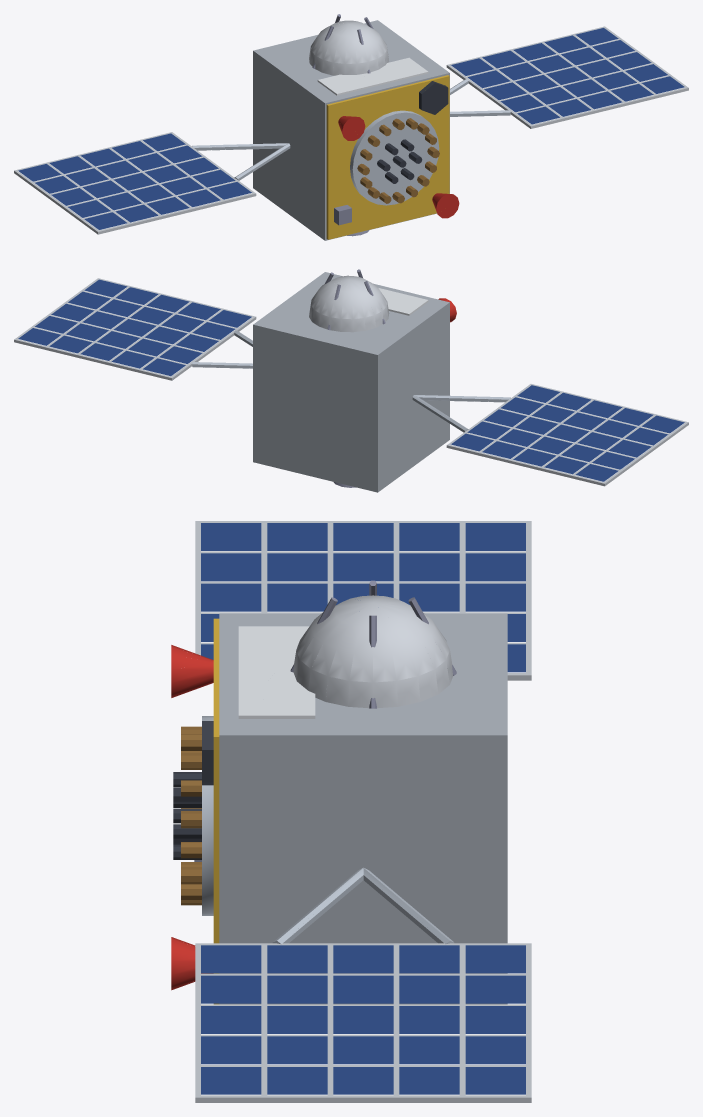
The model's file is irnss.glb.
The picture shows the model from 3 angles, top to bottom: view 1: azimuth 30°, elevation 25°; view 2: azimuth 150°, elevation 25°; view 3: azimuth 270°, elevation 25°; orthographic projection. The views are drawn at different scales.
Parts seen in each view (by area): view 1: body, solar-panel, foil; view 2: body, solar-panel; view 3: body, solar-panel, foil.
Boxes of the visible parts, x1,y1,x2,y2 form: body: (14,14,688,240); solar-panel: (18,28,684,229); foil: (326,75,449,239); body: (14,269,688,492); solar-panel: (18,279,684,481); body: (171,521,531,1102); solar-panel: (201,523,525,1094); foil: (213,618,219,1004).
Size of the model in its own units: 7.1 by 2.35 by 1.87.
